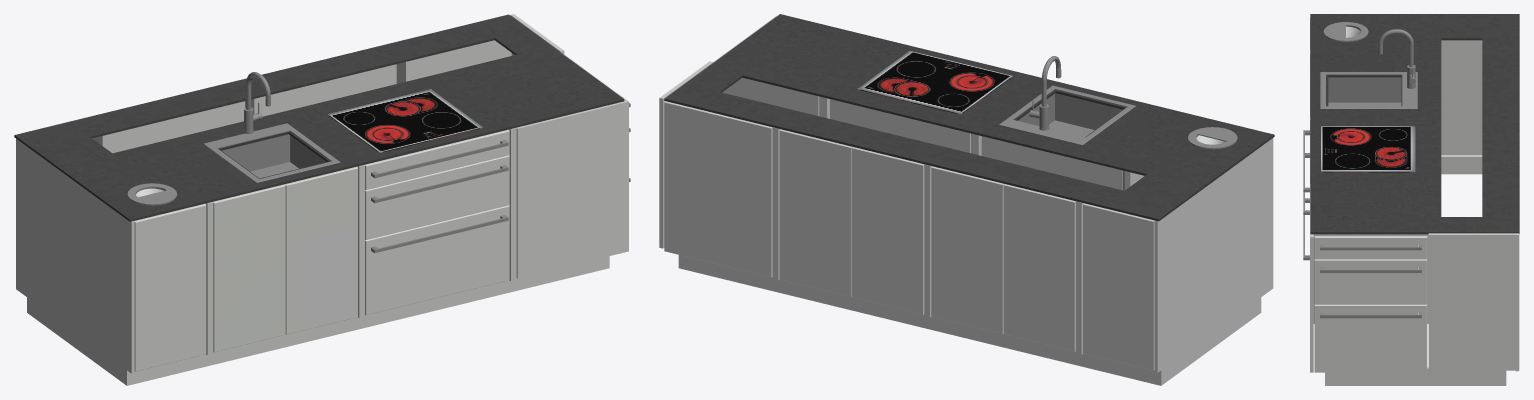
The model's file is kitchen_aurora.dae.
3 renders of one model, left to right at view 1: azimuth 30°, elevation 25°; view 2: azimuth 150°, elevation 25°; view 3: azimuth 270°, elevation 25°, orthographic. The views are drawn at different scales.
Visible parts, largest first — view 1: Kitchen_Aurora_068; view 2: Kitchen_Aurora_068; view 3: Kitchen_Aurora_068.
Boxes of the visible parts, x1,y1,x2,y2 form: Kitchen_Aurora_068: (14, 14, 630, 385); Kitchen_Aurora_068: (659, 14, 1274, 385); Kitchen_Aurora_068: (1303, 14, 1519, 385).
Bounding box in the file's own units: 2.77 × 1.14 × 1.27.
5 materials, 4 textured.
